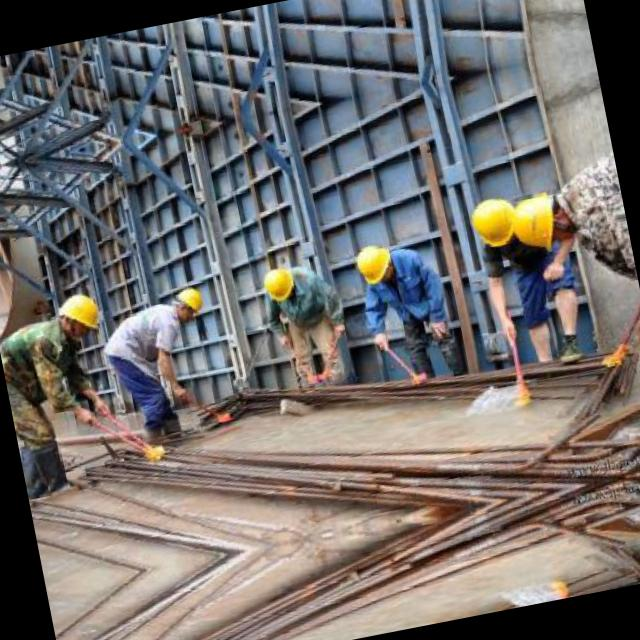helmet: (507, 182, 571, 257), (466, 189, 526, 257), (51, 286, 104, 344), (348, 237, 398, 289), (256, 262, 301, 306), (164, 281, 206, 324)
